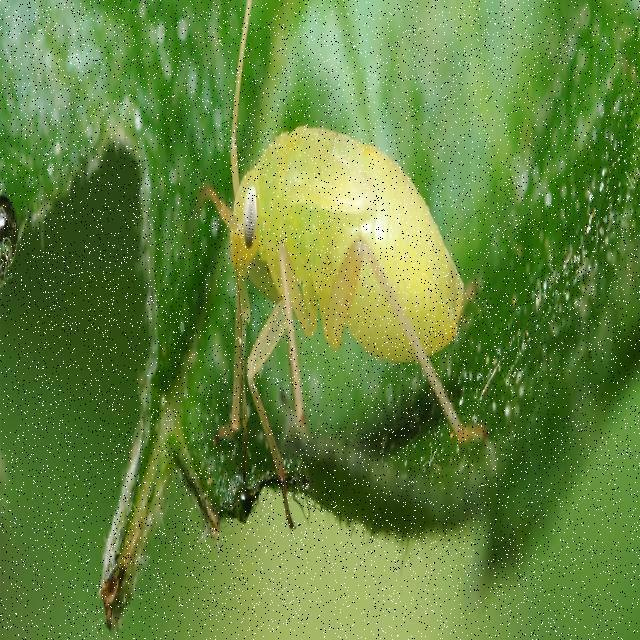Aphids: (177, 32, 505, 521)
